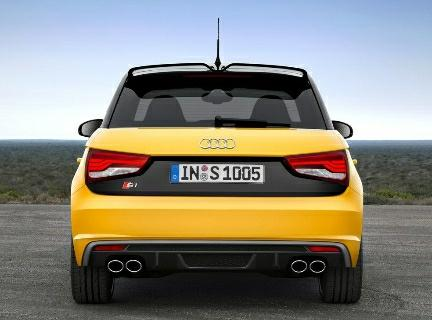car: (70, 51, 368, 305)
